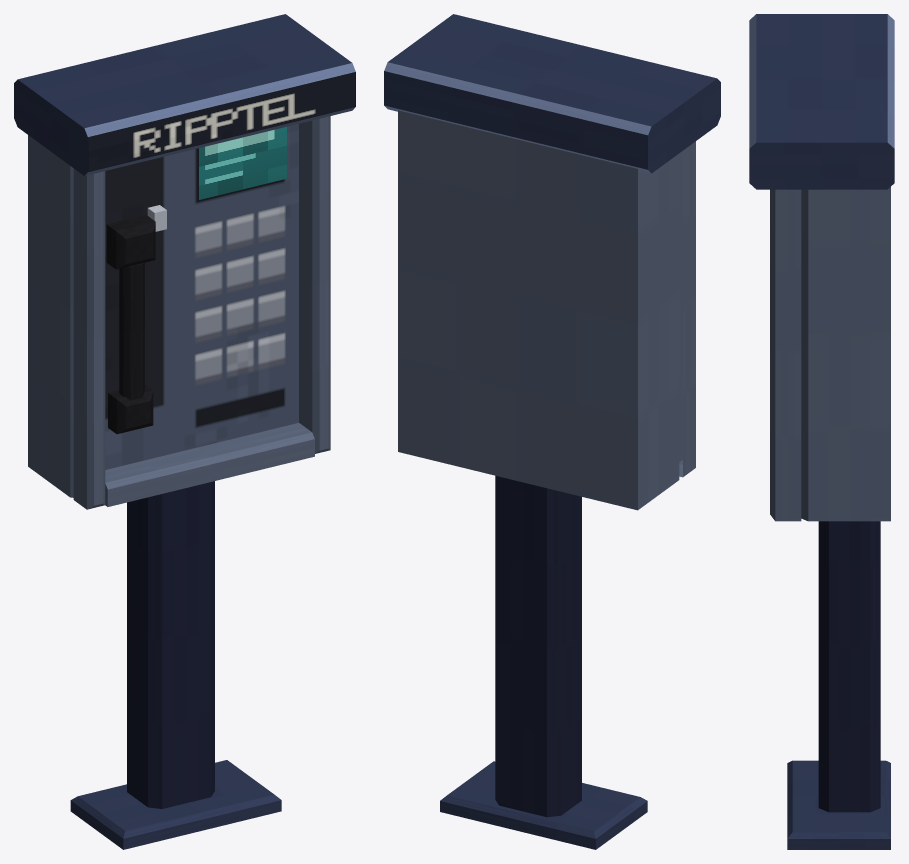
Rendered from SM_Phone_Ripptel.fbx.
3 renders of one model, left to right at view 1: azimuth 30°, elevation 25°; view 2: azimuth 150°, elevation 25°; view 3: azimuth 270°, elevation 25°, orthographic.
Visible parts, largest first — view 1: SM_Phone_Ripptel; view 2: SM_Phone_Ripptel; view 3: SM_Phone_Ripptel.
Boxes of the visible parts, x1,y1,x2,y2 form: SM_Phone_Ripptel: [14, 14, 355, 849]; SM_Phone_Ripptel: [384, 14, 720, 849]; SM_Phone_Ripptel: [749, 14, 894, 849].
Bounding box in the file's own units: 0.88 × 2.34 × 0.42.
3 materials, 3 textured.
